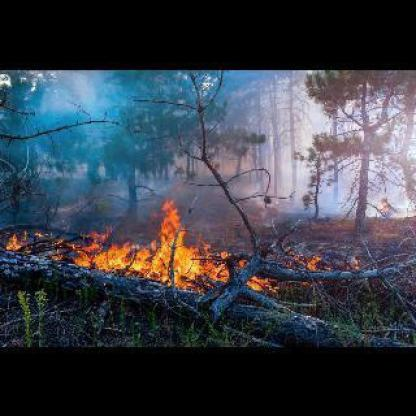fire: (80, 194, 266, 288)
